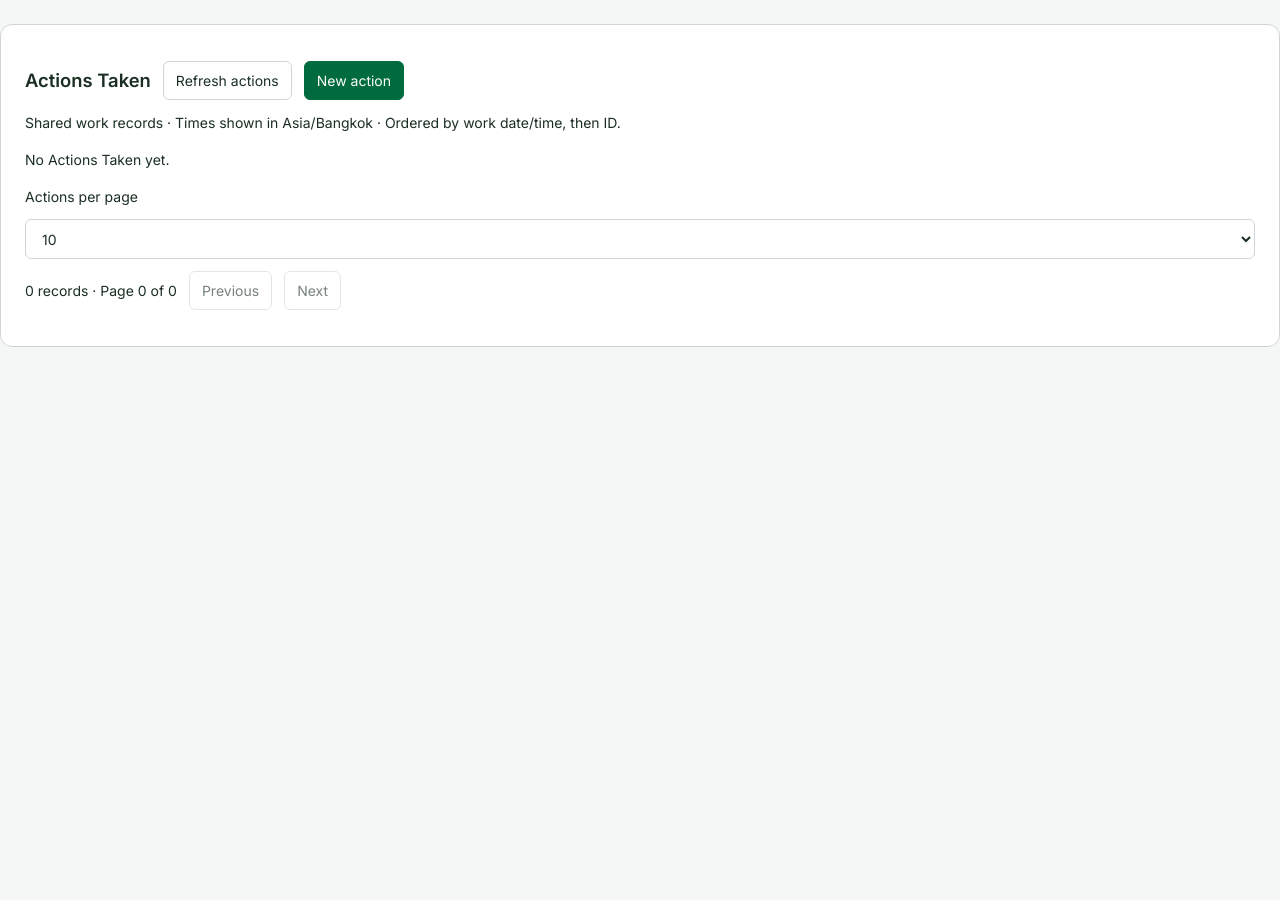
Test: Actions Taken interface › enforces field validation before sending and announces errors
Expected: the text "No Actions Taken yet." is shown, [25,151,170,168]
Click the button "New action" at (354, 80), box [304,61,404,100]
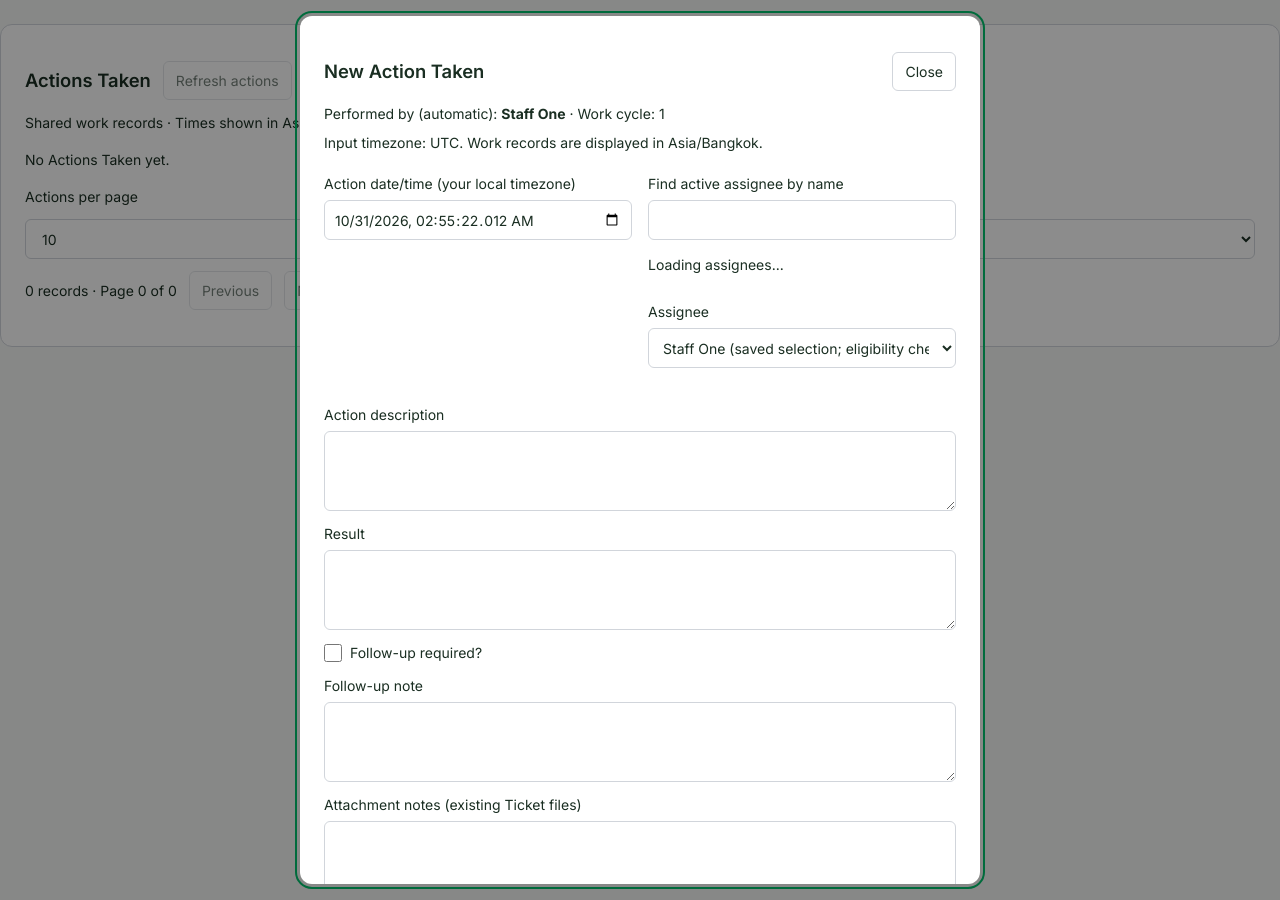
Click the checkbox labelled "Follow-up required?" at (333, 652), box [324,644,342,662]
(page scrolled)
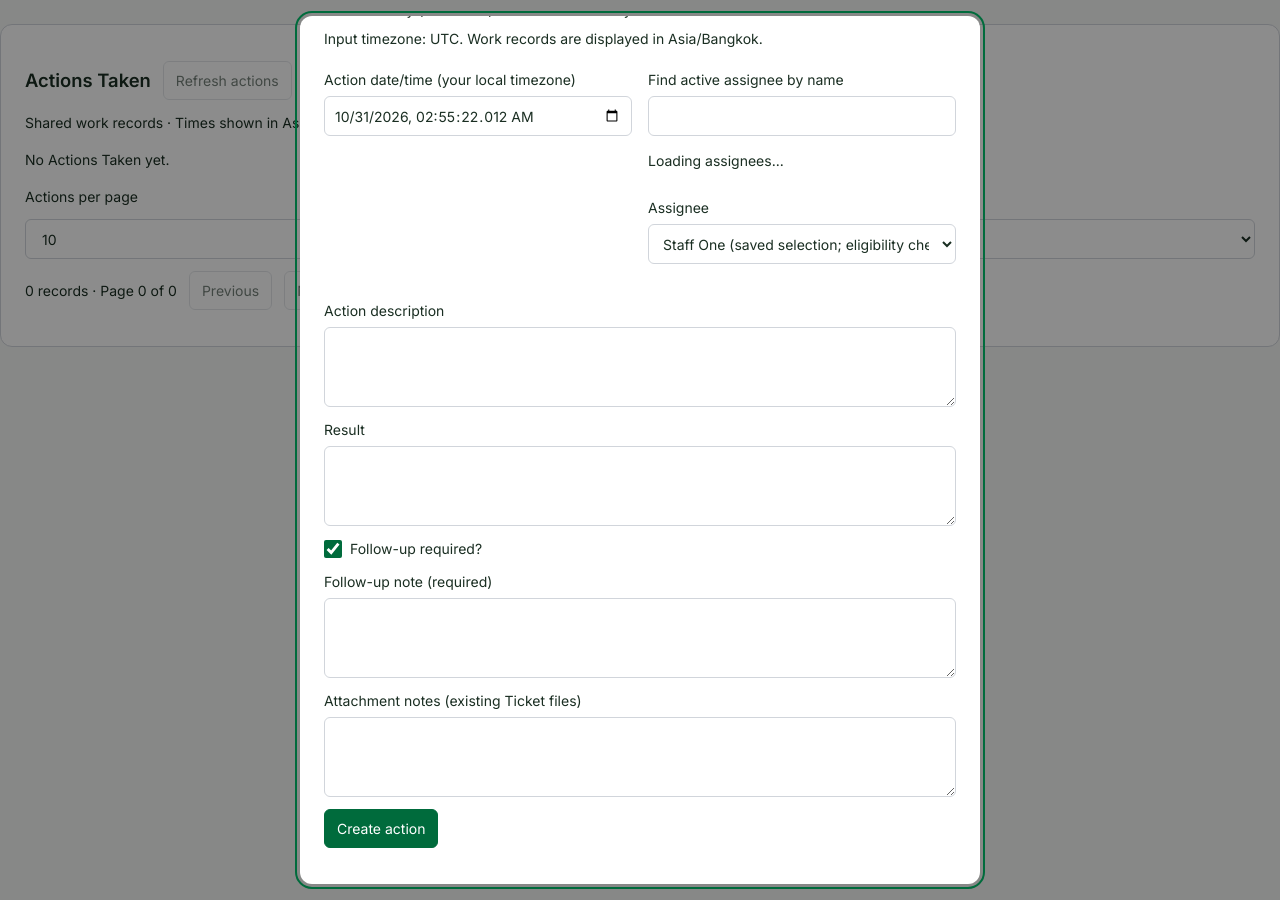
Click the button "Create action" at (381, 828), box [324,809,438,848]
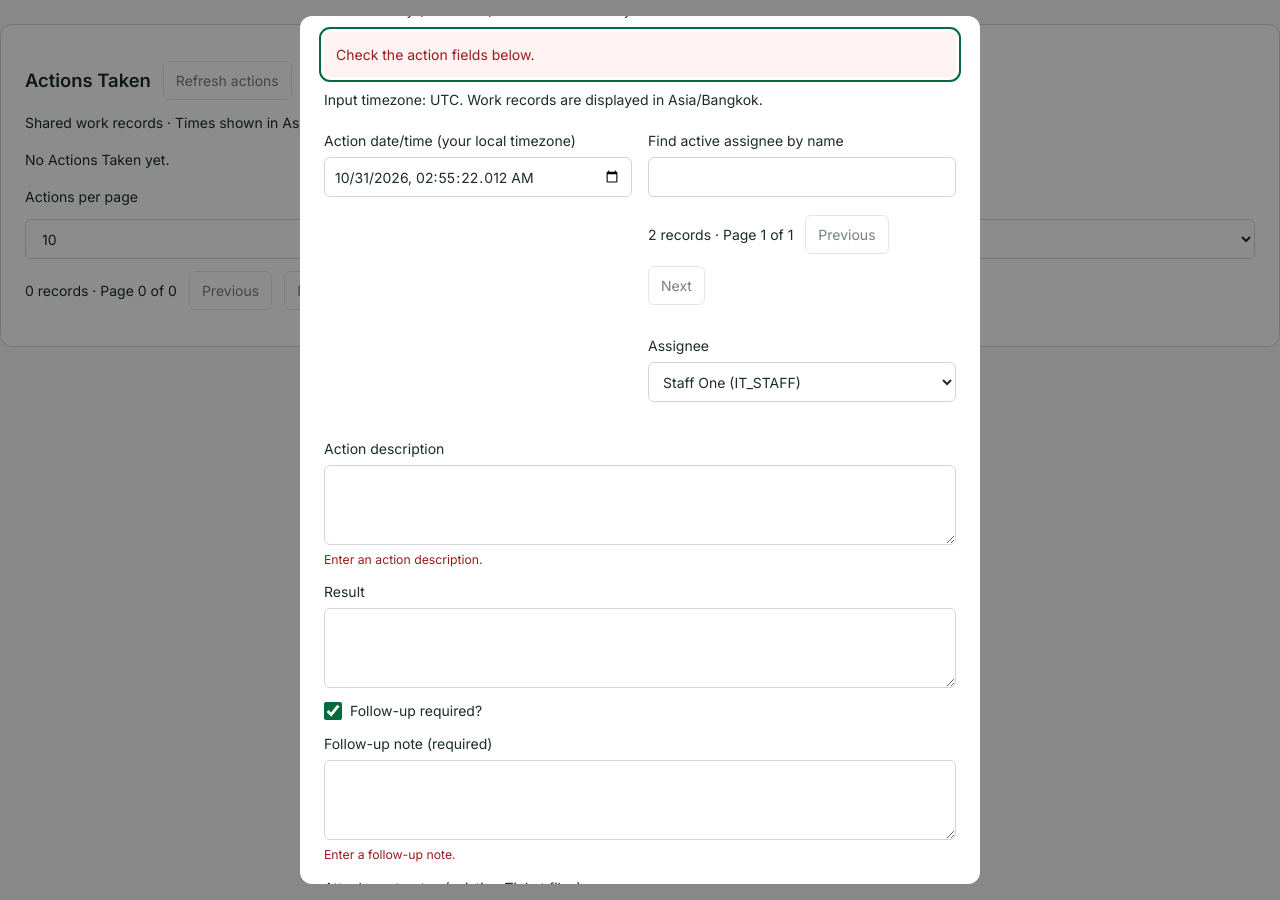
Expected: the message shows "Check the action fields", [336,46,534,63]
